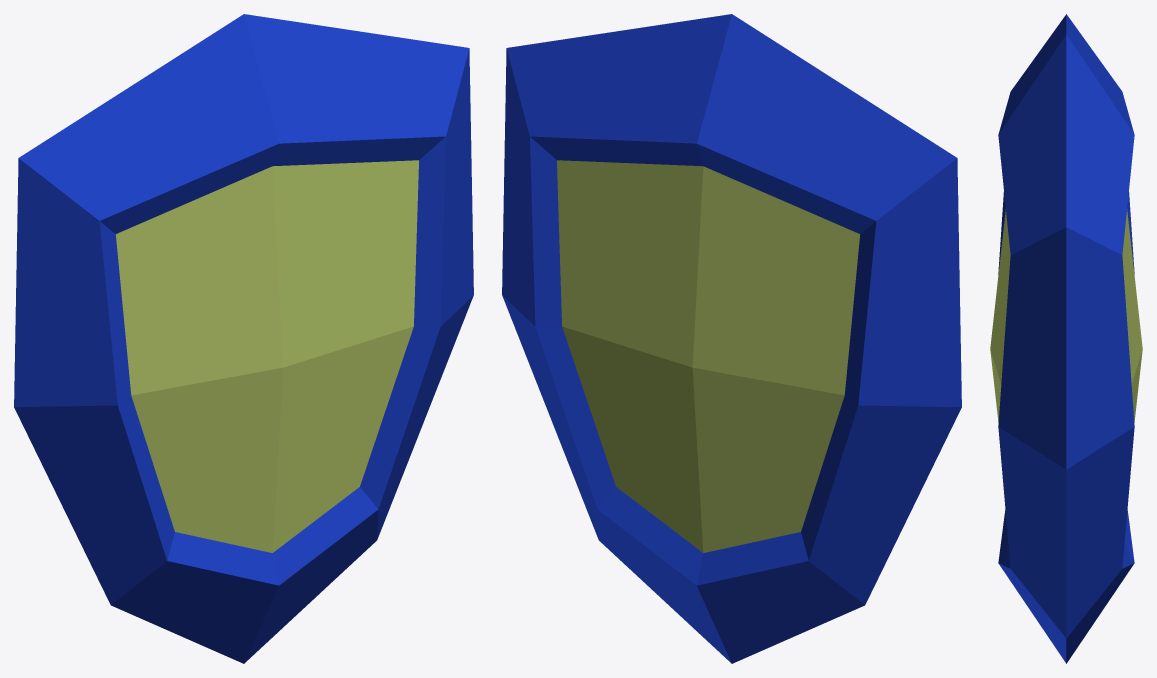
Rendered from shield.obj.
The picture shows the model from 3 angles, left to right: view 1: azimuth 30°, elevation 25°; view 2: azimuth 150°, elevation 25°; view 3: azimuth 270°, elevation 25°; orthographic projection. The views are drawn at different scales.
Visible parts, largest first — view 1: Cube, Cube.001; view 2: Cube, Cube.001; view 3: Cube, Cube.001.
Boxes of the visible parts, left/top/right/bottom form: Cube: left=14, top=14, right=473, bottom=663; Cube.001: left=116, top=160, right=418, bottom=552; Cube: left=502, top=14, right=961, bottom=663; Cube.001: left=557, top=160, right=859, bottom=552; Cube: left=998, top=14, right=1134, bottom=663; Cube.001: left=990, top=209, right=1142, bottom=422.
Bounding box in the file's own units: 1.24 × 1.68 × 0.3687.
